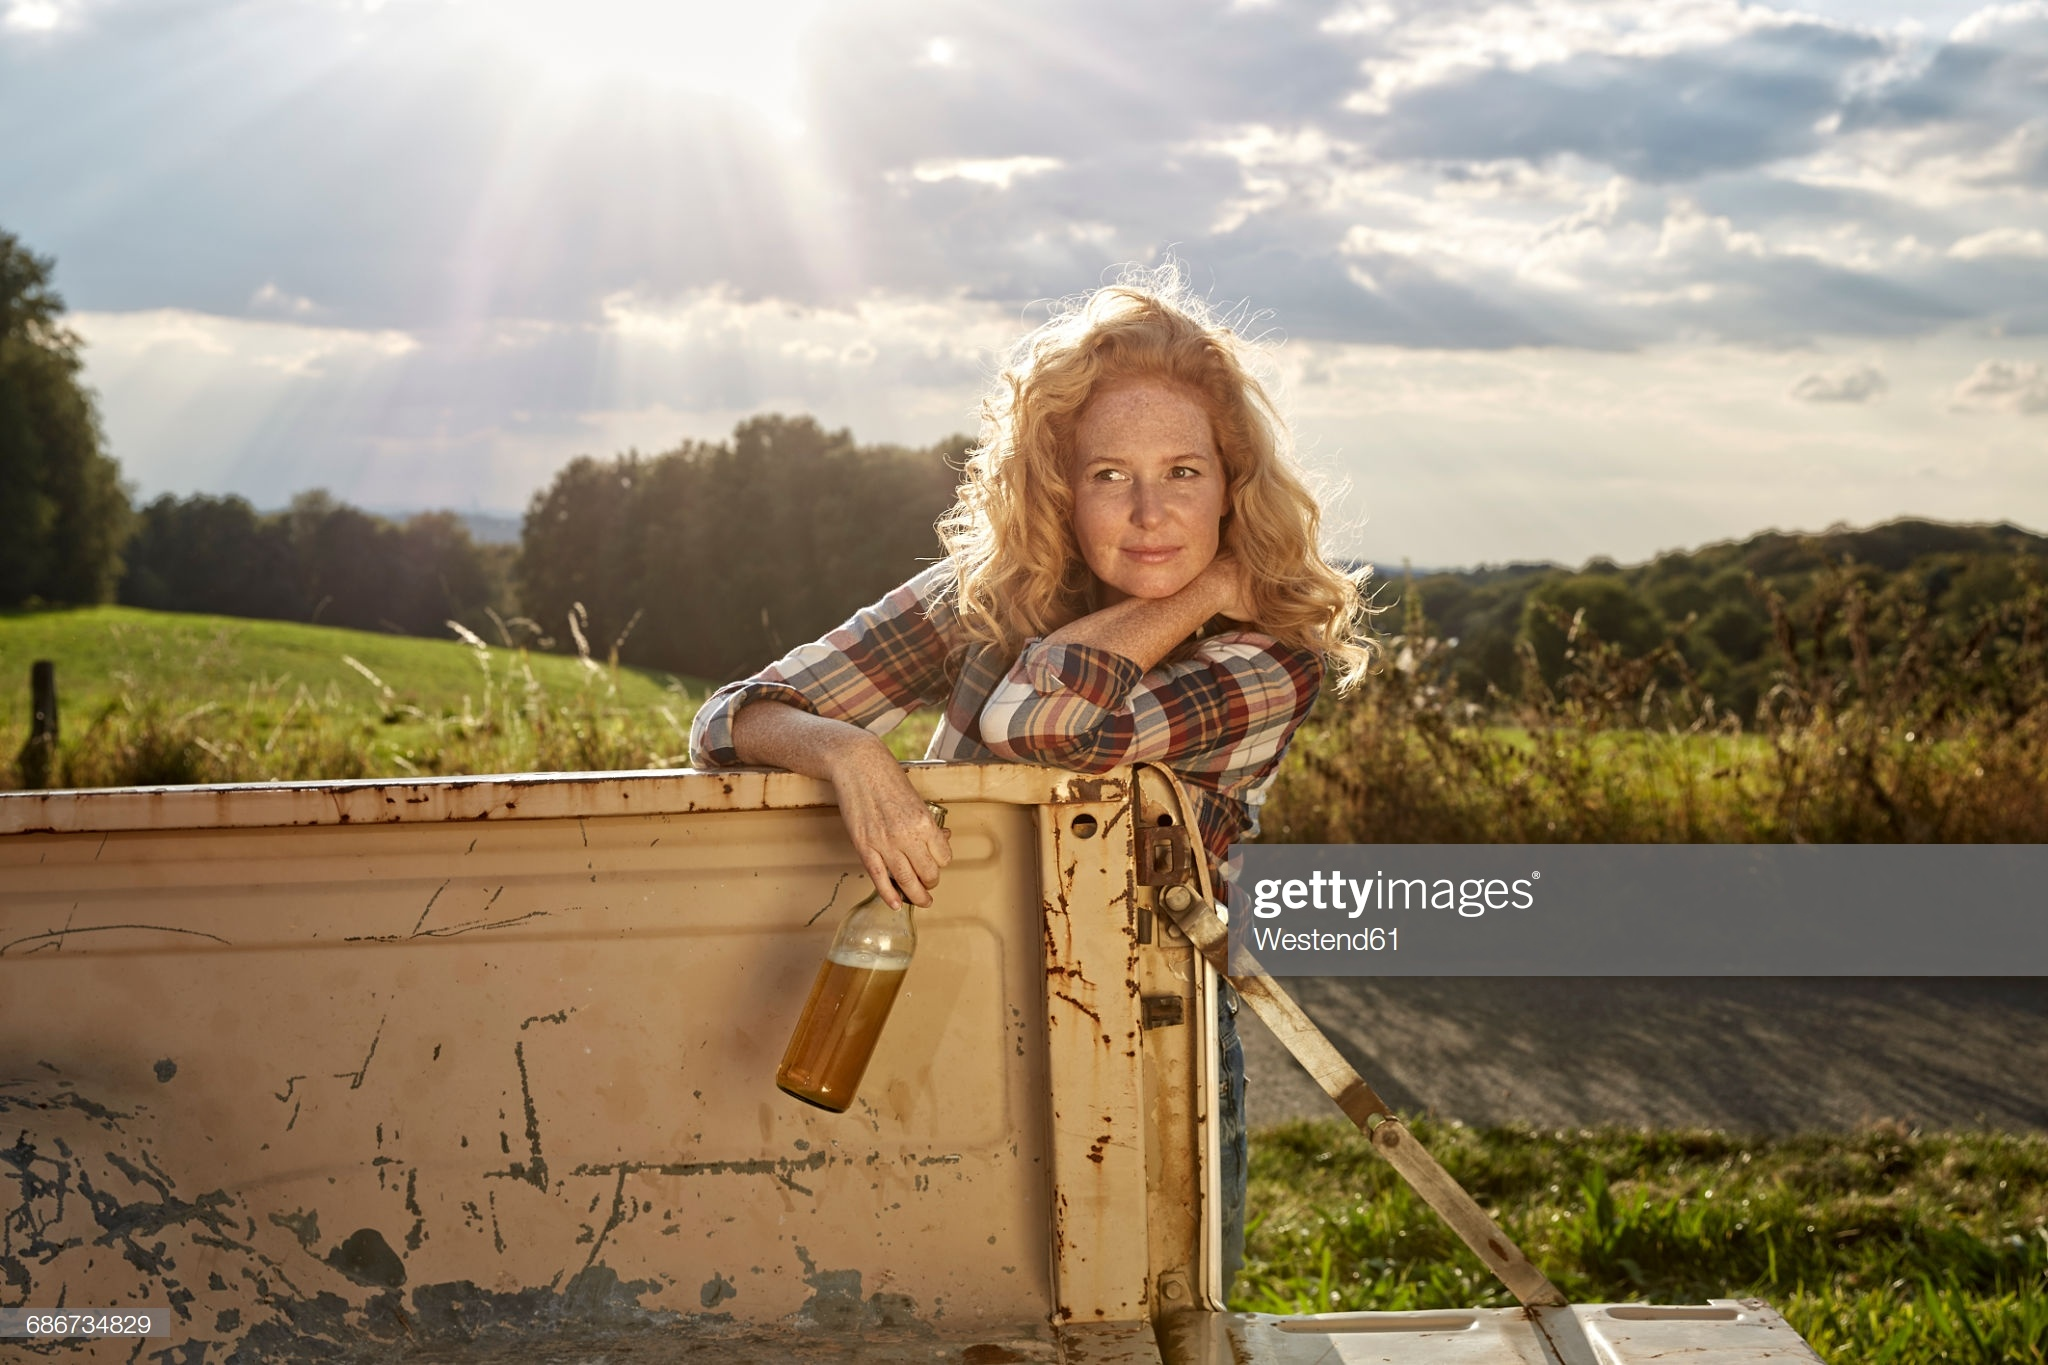beerBottle: (780, 800, 958, 1130)
